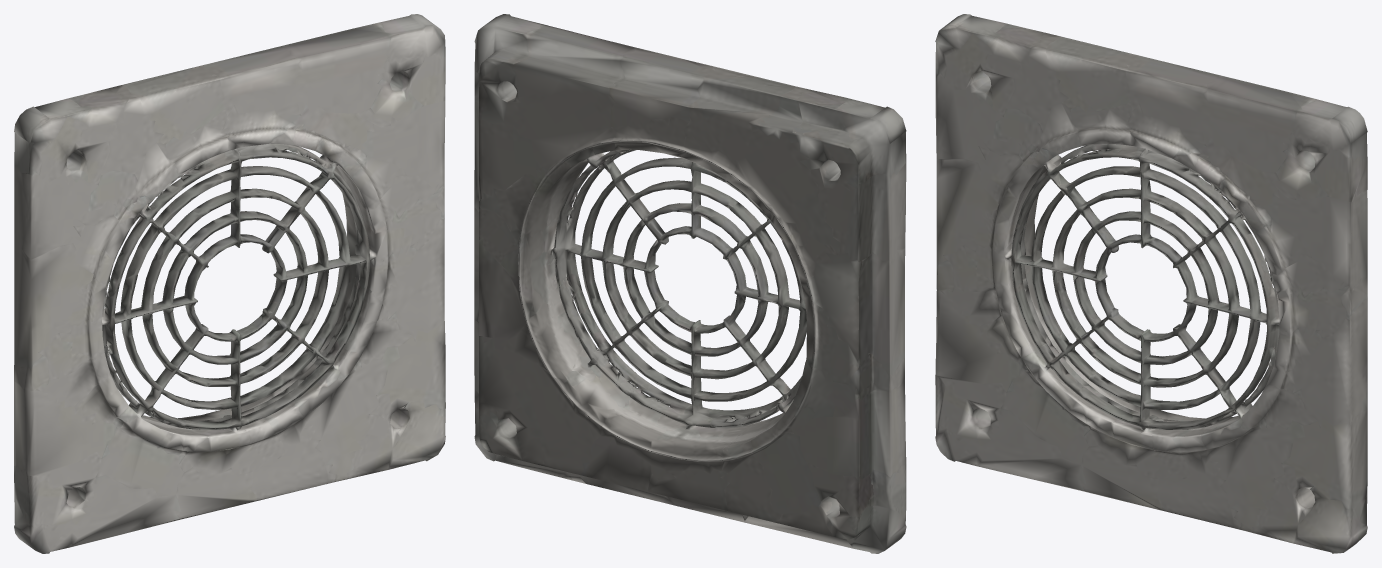
Rendered from fan_grille.glb.
3 views of the same model, side by side, from view 1: azimuth 30°, elevation 25°; view 2: azimuth 150°, elevation 25°; view 3: azimuth 330°, elevation 25° (orthographic).
Size of the model in its own units: 1.9 by 1.9 by 0.2713.
Materials: 1 (1 with a texture image).
